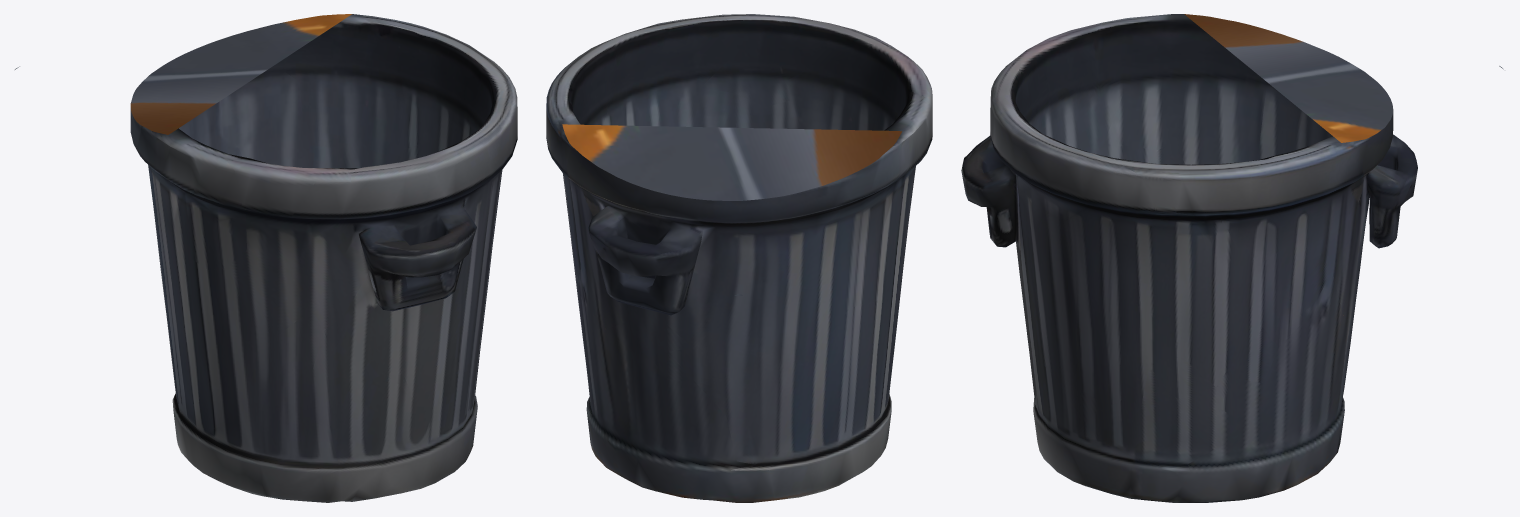
The model's file is TrashCan.fbx.
3 views of the same model, side by side, from view 1: azimuth 30°, elevation 25°; view 2: azimuth 150°, elevation 25°; view 3: azimuth 270°, elevation 25° (orthographic).
Visible parts, largest first — view 1: tripo_node_fc5ccc52; view 2: tripo_node_fc5ccc52; view 3: tripo_node_fc5ccc52.
Part boxes in pixels (left/top/right/bottom): tripo_node_fc5ccc52: left=15, top=14, right=517, bottom=502; tripo_node_fc5ccc52: left=546, top=14, right=932, bottom=502; tripo_node_fc5ccc52: left=961, top=14, right=1503, bottom=502.
Bounding box in the file's own units: 25.71 × 25.92 × 36.37.
